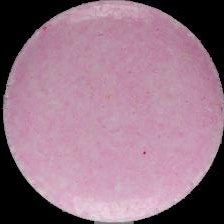50844-185: (0, 0, 224, 224)
